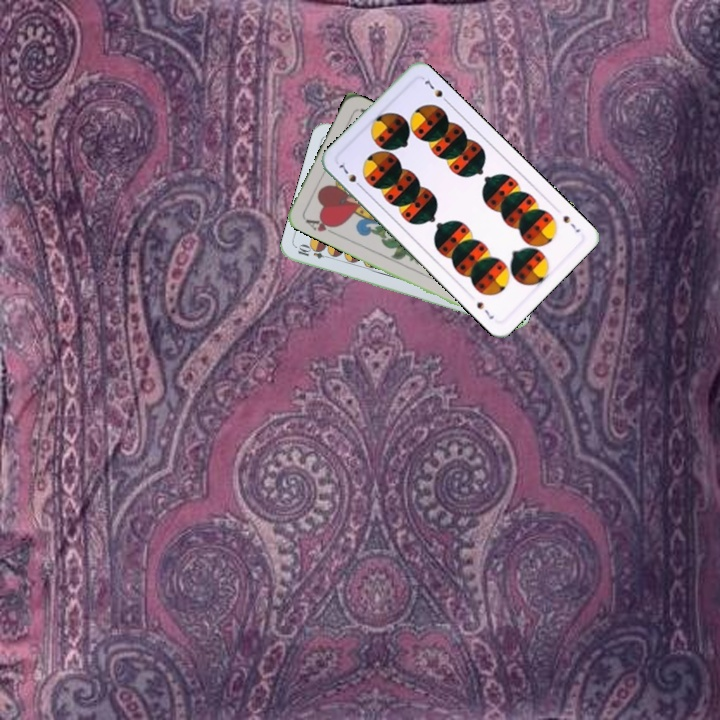E10: (294, 242, 334, 262)
HA: (301, 214, 341, 238)
S7: (334, 158, 366, 191), (559, 211, 583, 235)
